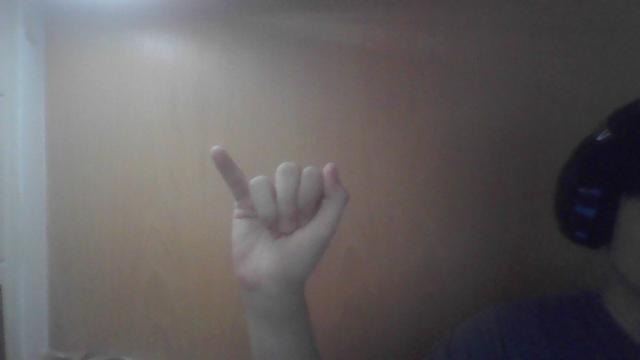Right: (201, 138, 355, 292)
